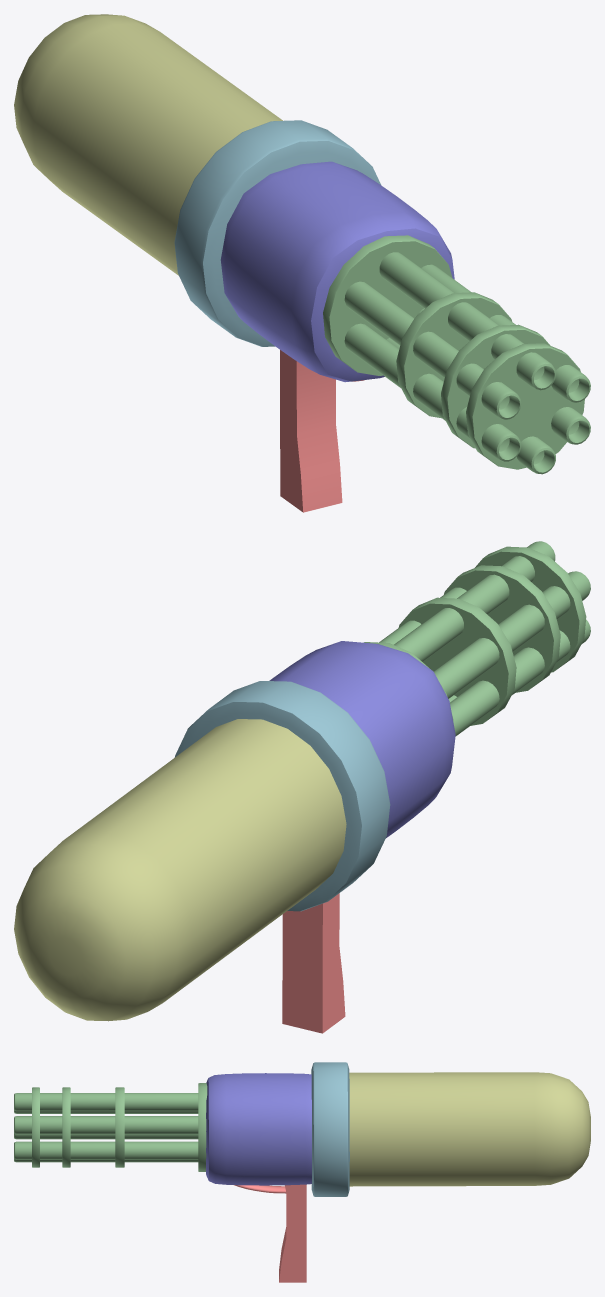
The model's file is lewgunfixed.fbx.
3 renders of one model, top to bottom at view 1: azimuth 30°, elevation 25°; view 2: azimuth 150°, elevation 25°; view 3: azimuth 270°, elevation 25°, orthographic. The views are drawn at different scales.
Parts seen in each view (by area): view 1: WaterTank, Barrel, mainbox, tankholder, Handle; view 2: WaterTank, Barrel, mainbox, tankholder, Handle; view 3: WaterTank, Barrel, mainbox, tankholder, Handle.
Boxes of the visible parts, x1,y1,x2,y2 form: WaterTank: (14,14,282,275); Barrel: (323,235,590,474); mainbox: (220,161,454,382); tankholder: (174,120,380,346); Handle: (280,350,364,512); WaterTank: (14,719,346,1021); Barrel: (364,541,590,736); mainbox: (269,641,455,837); tankholder: (174,681,390,911); Handle: (282,893,345,1033); WaterTank: (349,1072,590,1186); Barrel: (14,1083,207,1171); mainbox: (206,1073,311,1185); tankholder: (311,1062,349,1196); Handle: (234,1184,306,1282).
Bounding box in the file's own units: 19.08 × 33.32 × 83.07.
